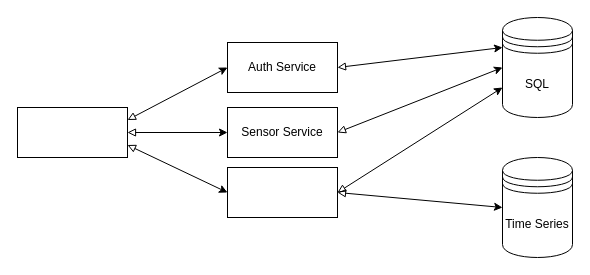
Image size: 590x275. Some labels were removed from this diagram. The centre of each missing label's shape, as x and y in pixels:
"API" goes at (x=72, y=132).
"Room Service" goes at (x=282, y=192).
